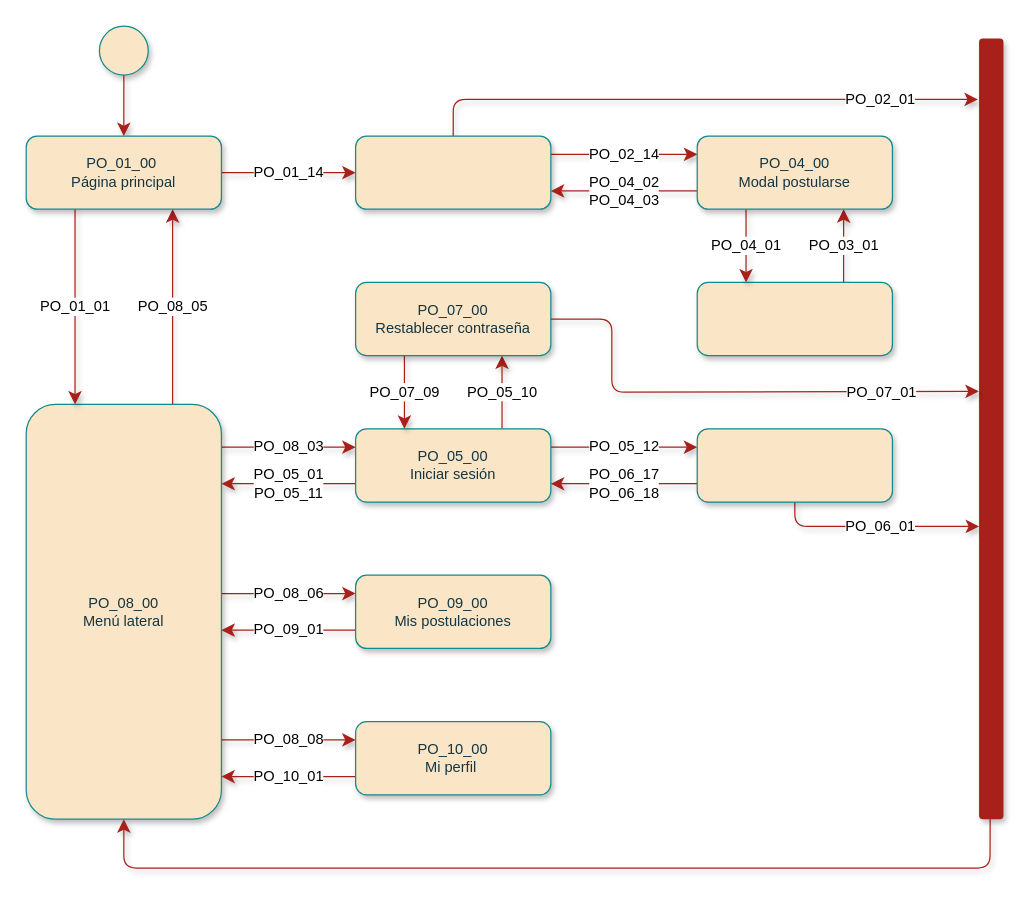
Some shapes in this 1032 by 910 pixel diagram are drawn without their labels. Here are the shapes that lost their labels. From the top down, the centre of each, then its label:
At pixel 454 174: "PO_02_00 Detalle vacante".
At pixel 795 320: "PO_03_00 Modal subir currículum".
At pixel 795 467: "PO_06_00 Registro".
